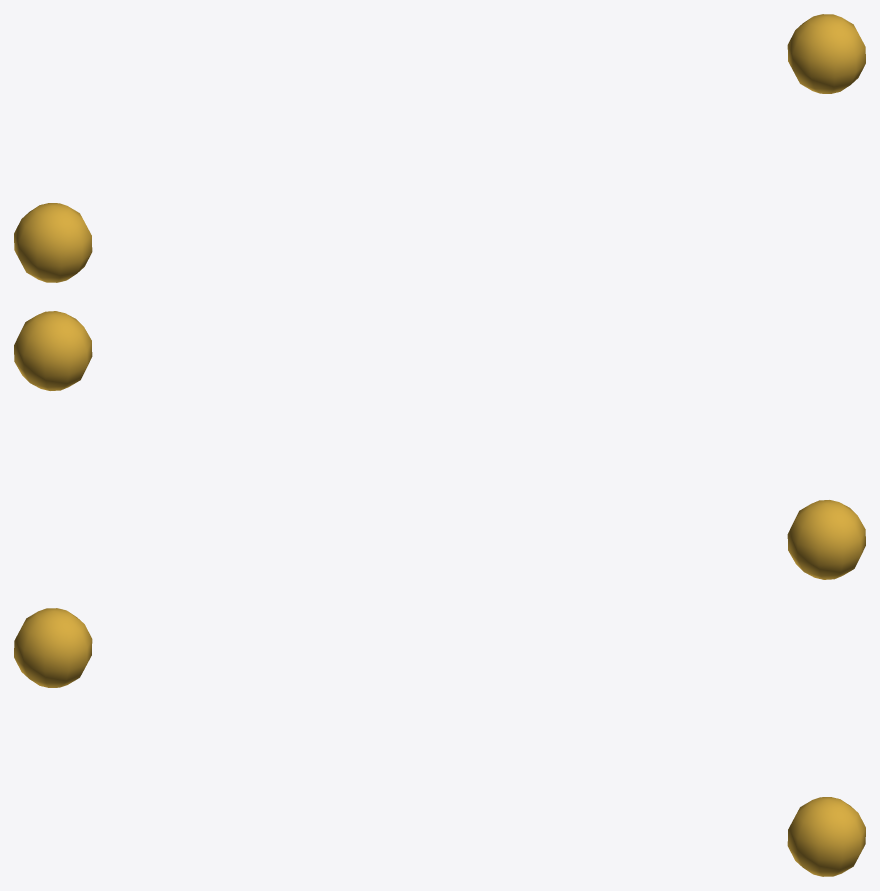
The model's file is earrings_f.glb.
3 renders of one model, top to bottom at view 1: azimuth 30°, elevation 25°; view 2: azimuth 150°, elevation 25°; view 3: azimuth 330°, elevation 25°, orthographic.
Visible parts, largest first — view 1: earrings_f; view 2: earrings_f; view 3: earrings_f.
Part boxes in pixels (x1,y1,x2,y2): earrings_f: [14, 14, 865, 282]; earrings_f: [14, 311, 865, 579]; earrings_f: [14, 608, 865, 876].
Size of the model in its own units: 0.1934 by 0.016 by 0.0149.
